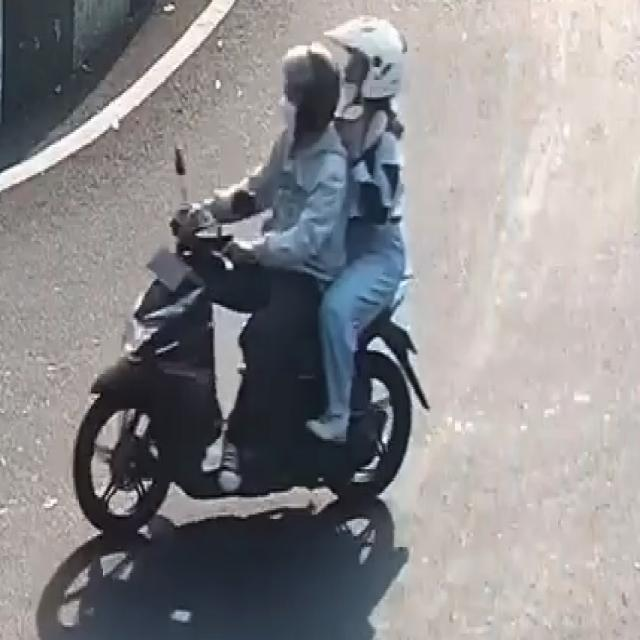helm: (319, 15, 409, 103), (274, 40, 347, 138)
motor: (68, 14, 438, 547)
spion: (221, 177, 267, 221), (169, 141, 193, 195)
